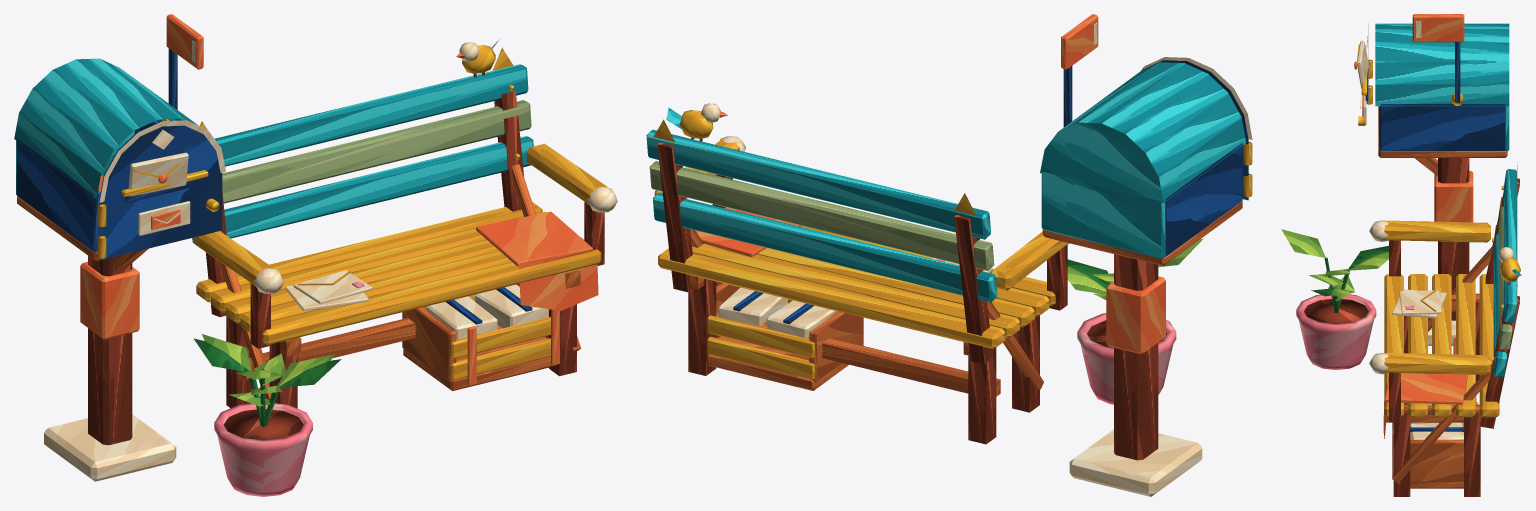
File: prior-mailbox_bench-01.glb
The picture shows the model from 3 angles, left to right: view 1: azimuth 30°, elevation 25°; view 2: azimuth 150°, elevation 25°; view 3: azimuth 270°, elevation 25°; orthographic projection. The views are drawn at different scales.
Visible parts, largest first — view 1: mailbox_bench; view 2: mailbox_bench; view 3: mailbox_bench.
Boxes of the visible parts, left/top/right/bottom form: mailbox_bench: left=14, top=14, right=617, bottom=496; mailbox_bench: left=646, top=14, right=1252, bottom=496; mailbox_bench: left=1281, top=14, right=1521, bottom=496.
Size of the model in its own units: 2.52 by 1.93 by 1.23.
3 materials, 3 textured.
